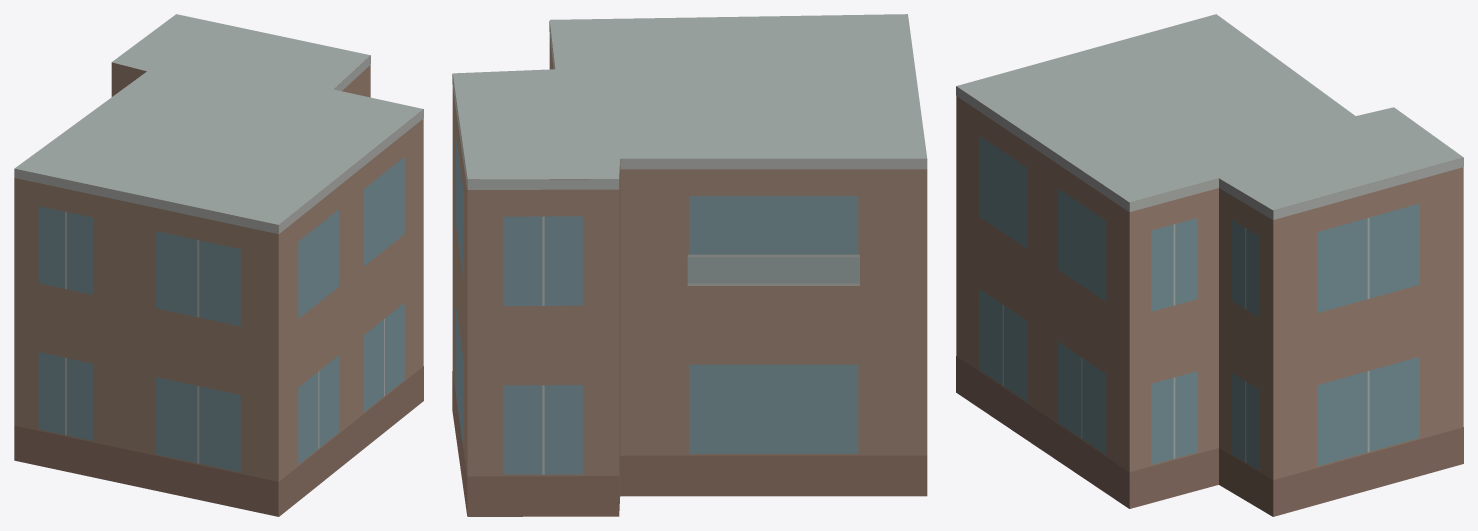
Rendered from survey-upis-32654236.glb.
The picture shows the model from 3 angles, left to right: view 1: azimuth 30°, elevation 25°; view 2: azimuth 150°, elevation 25°; view 3: azimuth 270°, elevation 25°; orthographic projection. The views are drawn at different scales.
Parts seen in each view (by area): view 1: survey-upis-32654236.tmp; view 2: survey-upis-32654236.tmp; view 3: survey-upis-32654236.tmp.
Part boxes in pixels (x1,y1,x2,y2): survey-upis-32654236.tmp: [14, 14, 423, 516]; survey-upis-32654236.tmp: [452, 14, 927, 516]; survey-upis-32654236.tmp: [956, 14, 1463, 516].
Size of the model in its own units: 10.6 by 7.7 by 11.57.
